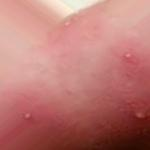Ants: (58, 17, 76, 32), (20, 108, 33, 122), (123, 49, 135, 63)
